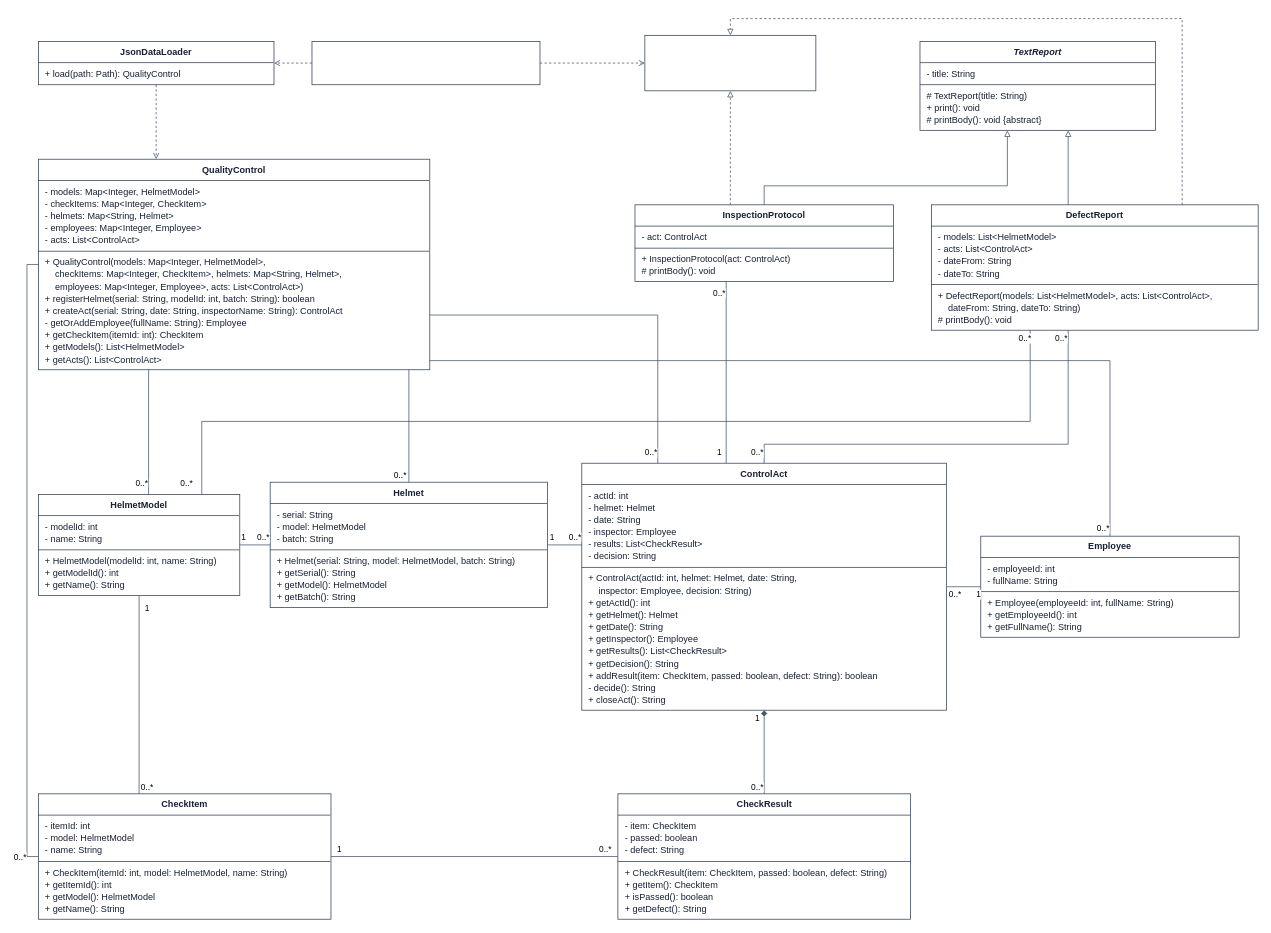
Image size: 1271x933. Some labels were removed from this diagram. Here are the shapes that lost their labels. From the top down, the box of each, then its label:
(311, 41, 540, 85): Main + main(args: String[]): void {static}
(644, 35, 816, 91): «interface» Report + print(): void
